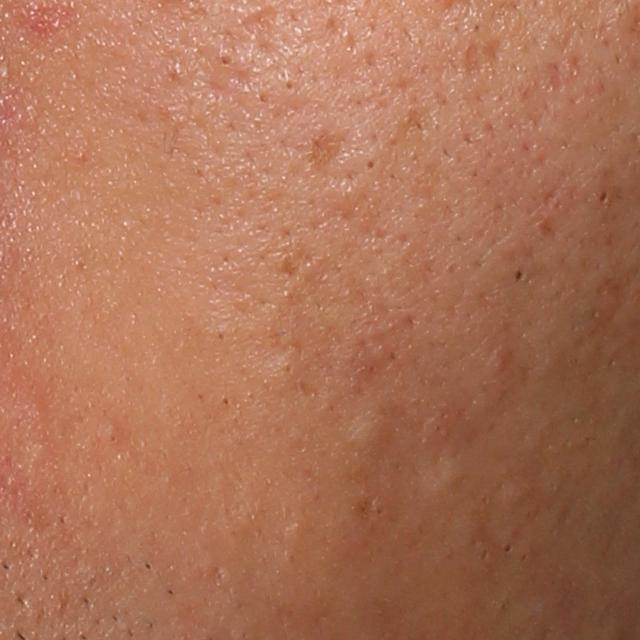atrophic_scar: (243, 4, 296, 57), (309, 133, 355, 175), (463, 42, 489, 79)
comedo: (349, 411, 402, 457), (275, 350, 301, 383), (211, 49, 237, 74), (98, 424, 120, 448), (279, 75, 298, 96), (362, 153, 379, 175), (510, 268, 525, 285), (597, 190, 609, 204)
